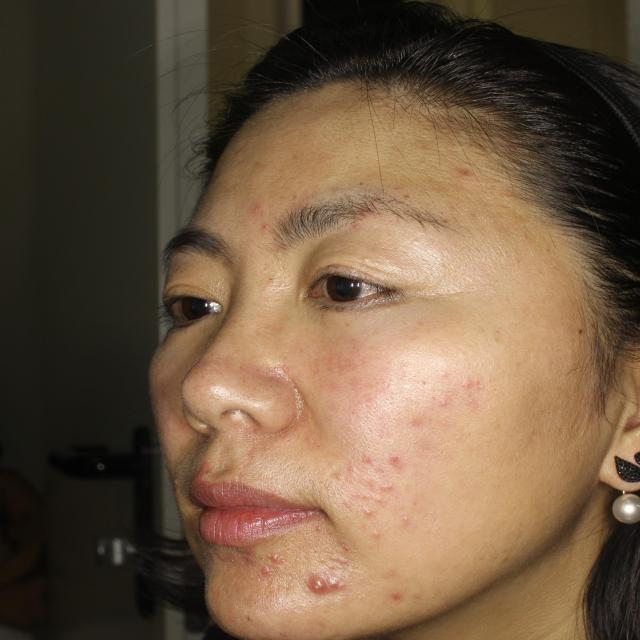acne: (298, 570, 350, 606), (365, 471, 401, 498), (387, 444, 417, 476), (327, 452, 355, 484), (388, 590, 423, 615), (245, 207, 278, 231), (264, 550, 294, 569), (353, 500, 382, 519), (453, 161, 476, 184), (234, 550, 264, 567)
